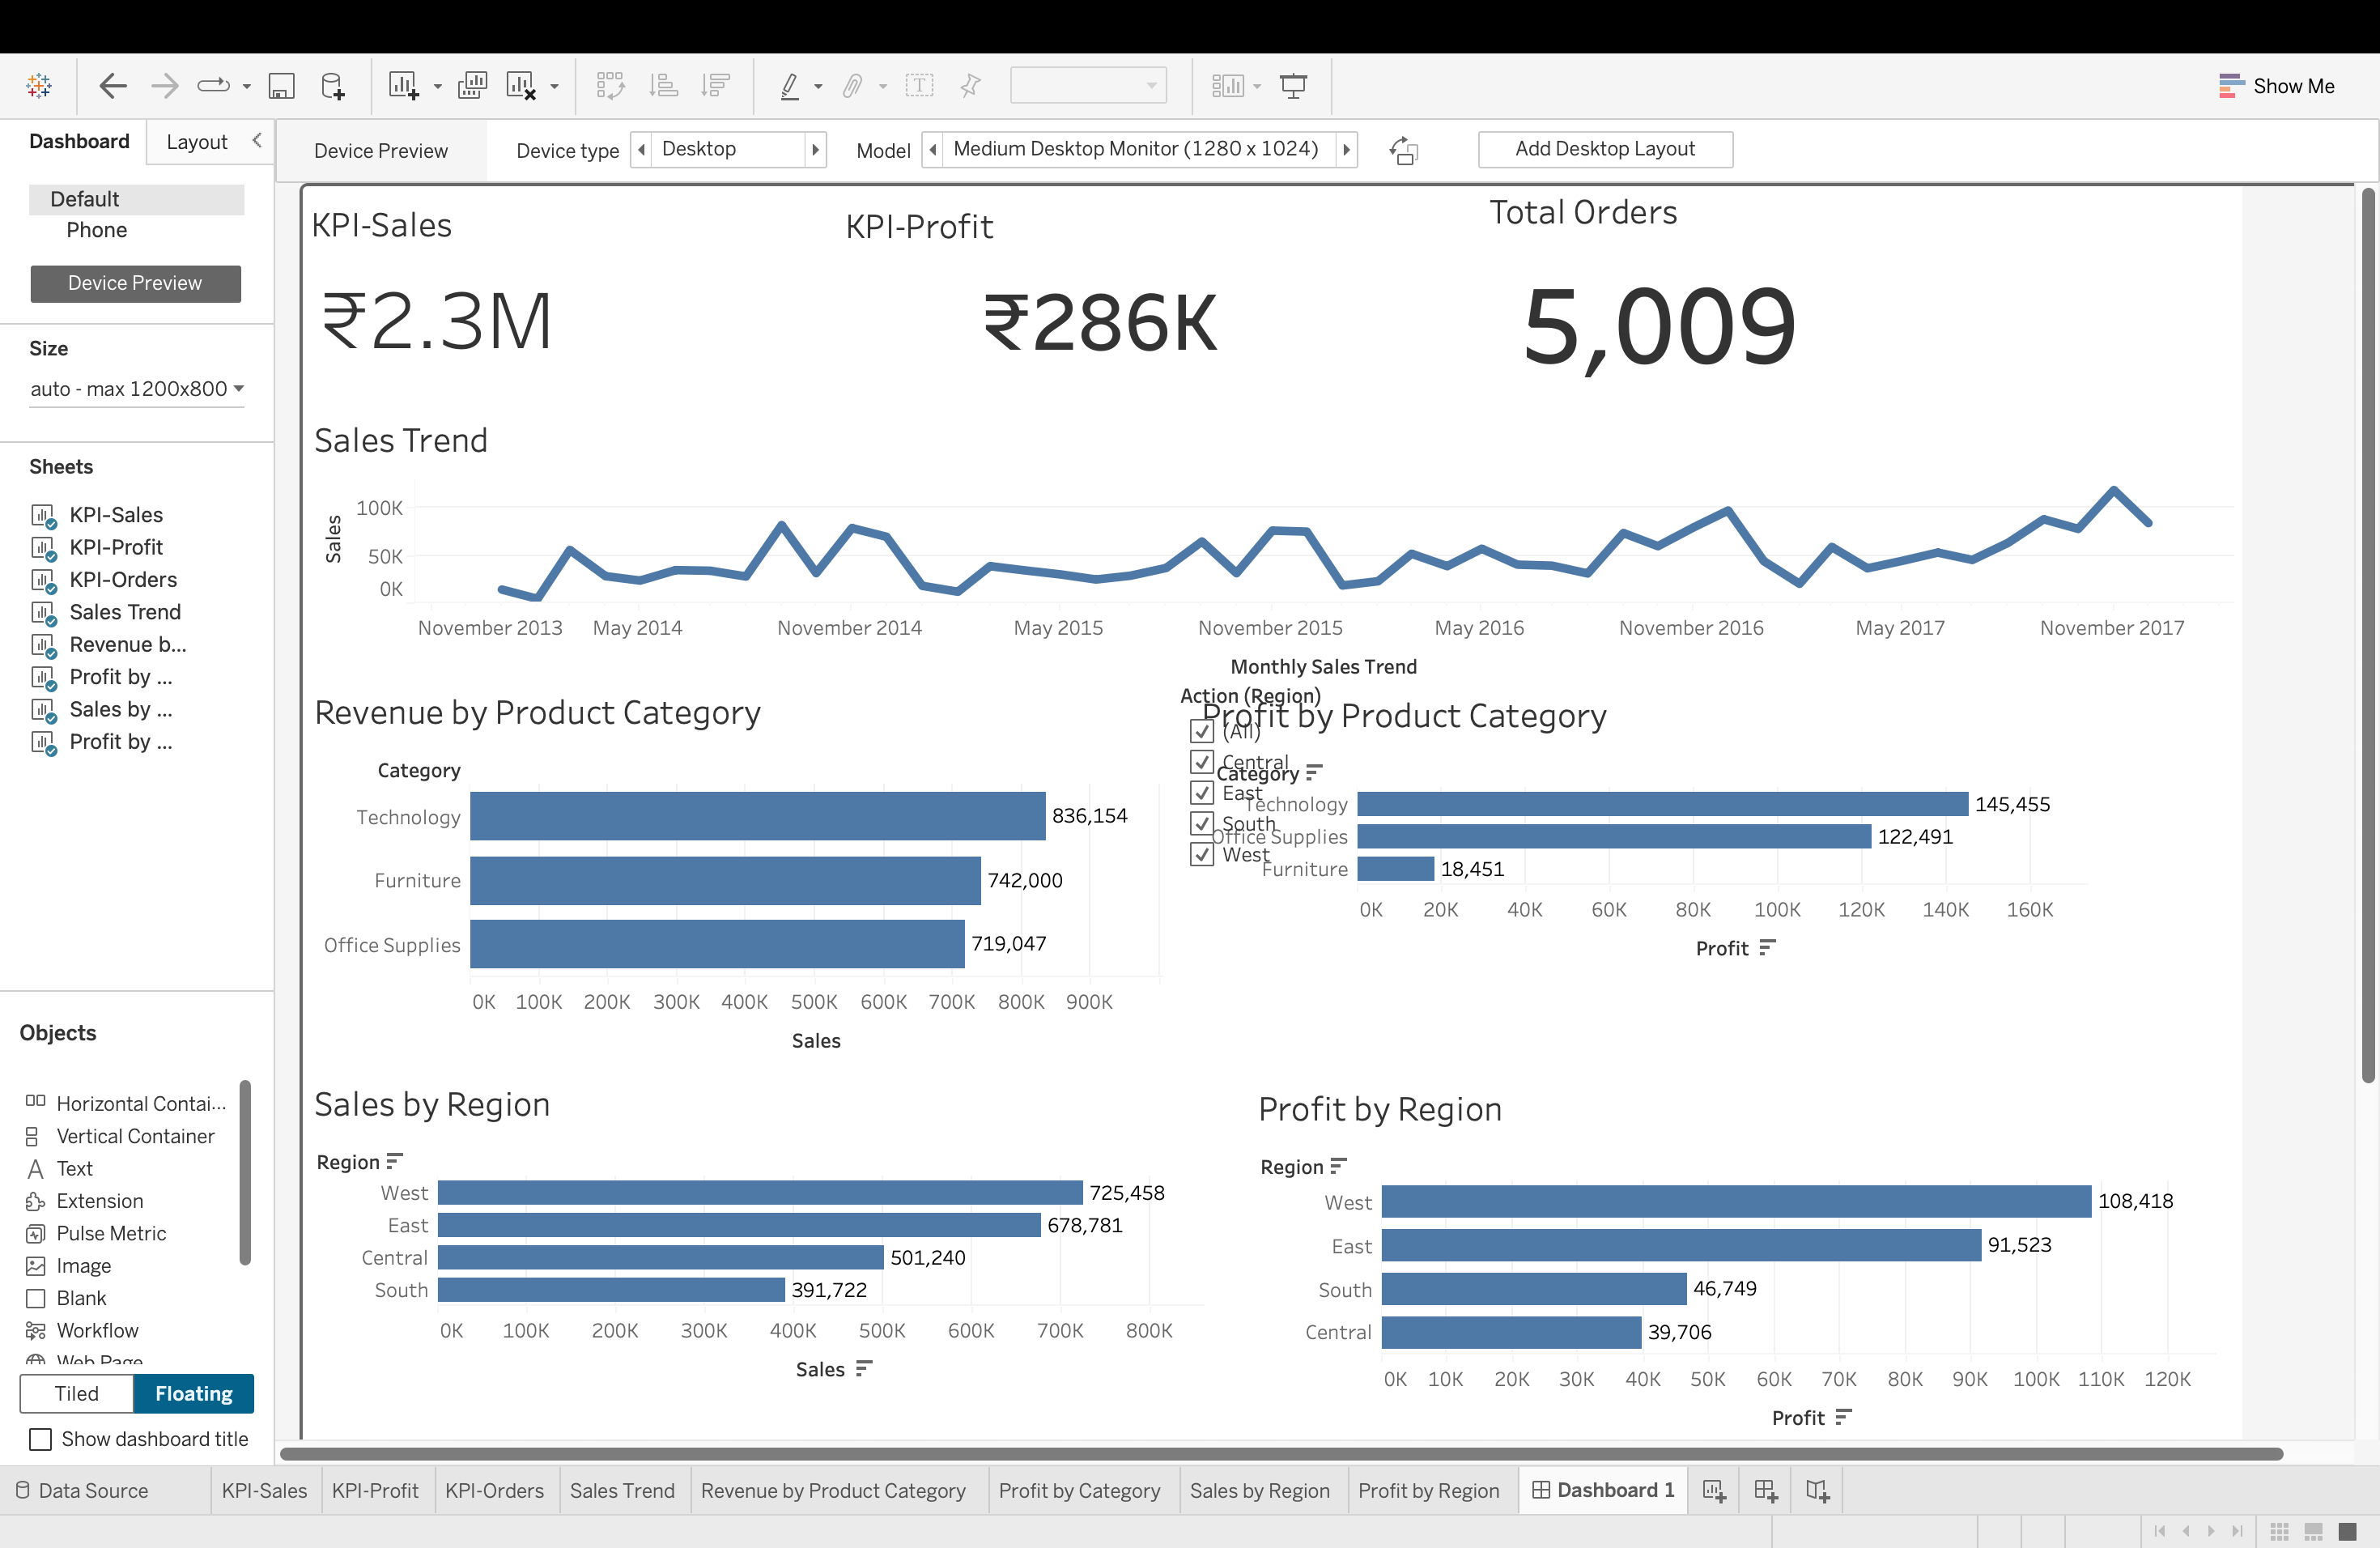

Layout of this report page (visuals, bound fields, positions):
{"tool":"tableau","page":{"name":"Dashboard 1","canvas":[1000,1000],"units":"permille","ordinal":0},"visuals":[{"type":"worksheet","title":"KPI-Sales","mark":"Text","box":[2.5,8.8,236.7,255]},{"type":"worksheet","title":"KPI-Profit","mark":"Automatic","box":[277.5,10,326.7,218.8]},{"type":"worksheet","title":"Sales Trend","mark":"Automatic","rows":["Sales"],"cols":["Order Date"],"box":[4.2,175,991.7,217.5]},{"type":"worksheet","title":"Revenue by Product Category","mark":"Automatic","rows":["Category"],"cols":["Sales"],"box":[4.2,385,440.8,296.2]},{"type":"filter","title":"Revenue by Product Category","param":"[federated.0xu6ldj0n3c5kj199kreq17sc79p].[Action (Region)]","box":[453.3,385,133.3,148.8]},{"type":"worksheet","title":"Profit by Category","mark":"Automatic","rows":["Category"],"cols":["Profit"],"box":[460.8,387.5,460,292.5]},{"type":"worksheet","title":"Sales by Region","mark":"Automatic","rows":["Region"],"cols":["Sales"],"box":[4.2,687.5,461.7,288.8]},{"type":"worksheet","title":"Profit by Region","mark":"Automatic","rows":["Region"],"cols":["Profit"],"box":[490,691.2,496.7,281.2]}]}

Visuals, with their boxes on the dashboard's canvas, which has no fixed pixel size, in thousandths of its width and height (x1, y1, x2, y2). These are canvas units, not pixel positions in the 2380x1548 screenshot, which may show the page scaled, cropped or inside an application window:
"KPI-Sales" worksheet (Text marks): 2, 9, 239, 264
"KPI-Profit" worksheet: 278, 10, 604, 229
"Sales Trend" worksheet: 4, 175, 996, 392
"Revenue by Product Category" worksheet: 4, 385, 445, 681
"Revenue by Product Category" filter: 453, 385, 587, 534
"Profit by Category" worksheet: 461, 388, 921, 680
"Sales by Region" worksheet: 4, 688, 466, 976
"Profit by Region" worksheet: 490, 691, 987, 972
